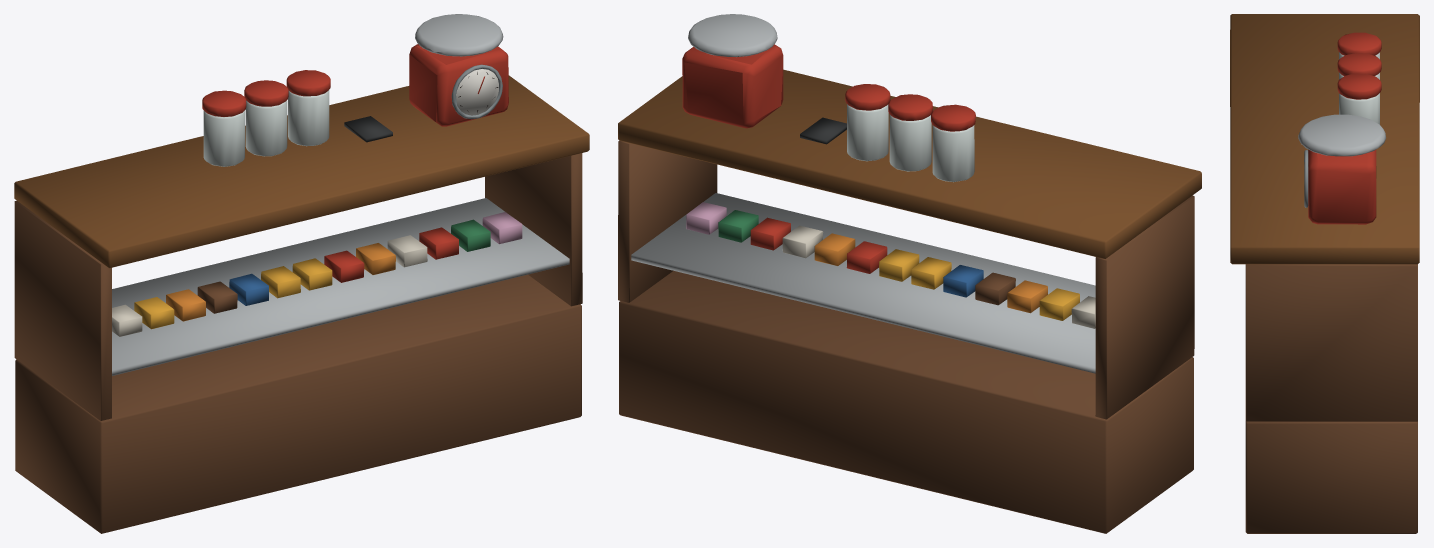
File: quay.glb
3 views of the same model, side by side, from view 1: azimuth 30°, elevation 25°; view 2: azimuth 150°, elevation 25°; view 3: azimuth 270°, elevation 25° (orthographic). The views are drawn at different scales.
Visible parts, largest first — view 1: quay; view 2: quay; view 3: quay.
Part boxes in pixels (x1,y1,x2,y2): quay: [14, 14, 589, 533]; quay: [618, 14, 1201, 533]; quay: [1230, 14, 1419, 533].
Size of the model in its own units: 1.6 by 1.17 by 0.5482.
